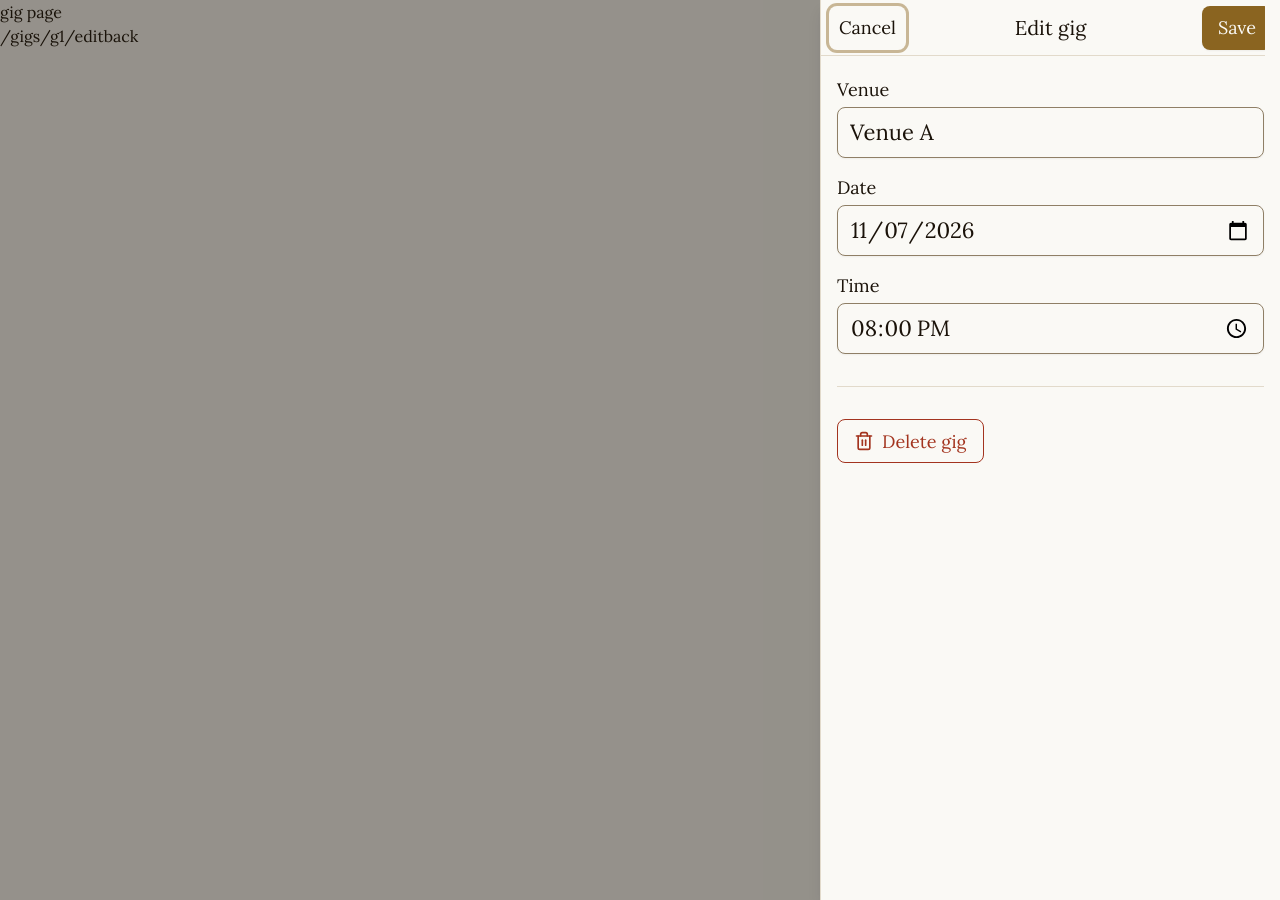
Scenario: GigEdit delete › disables "Yes, delete" while the request runs
Click the button "Delete gig" at (910, 441), box [837,419,984,463]
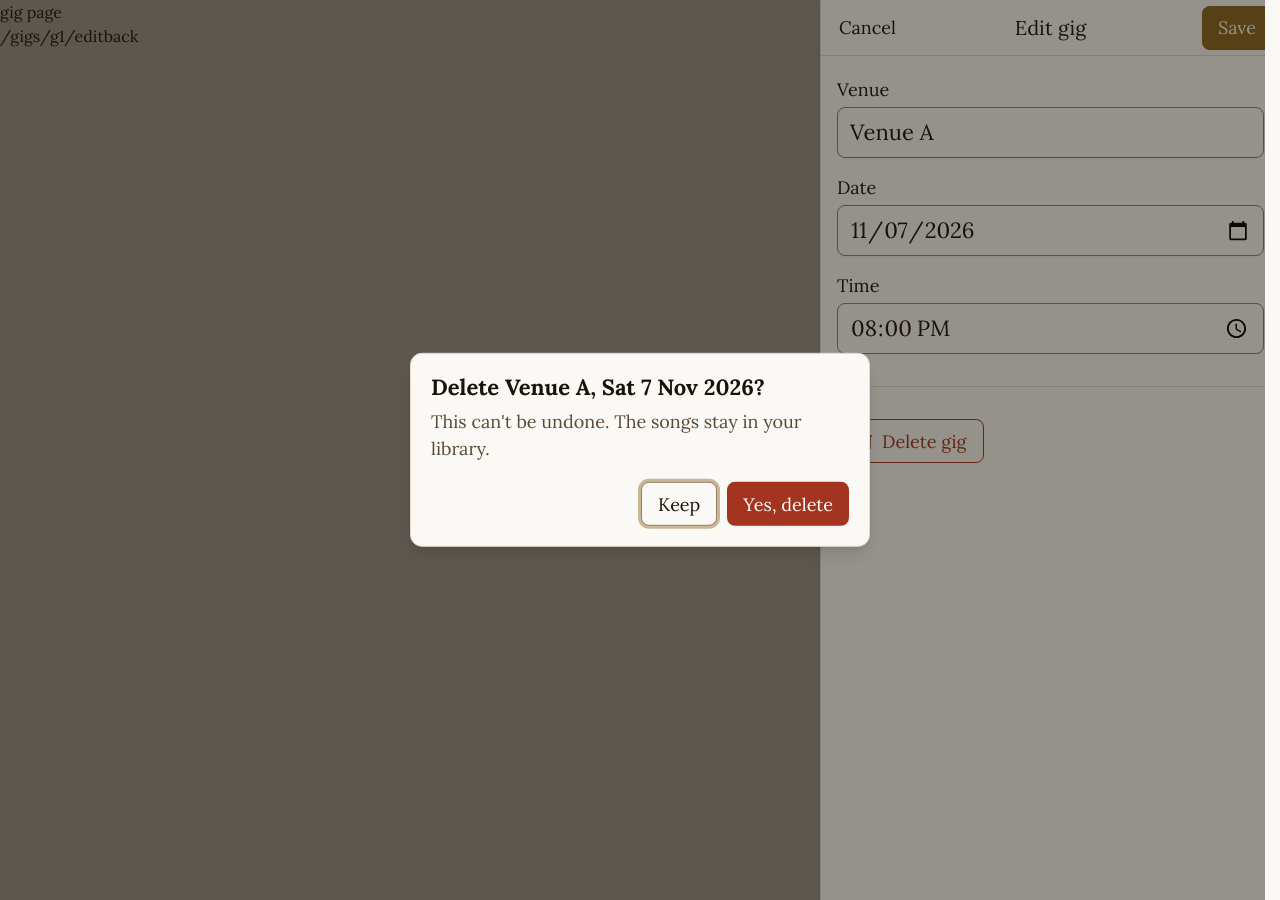
Click the button "Yes, delete" at (788, 504), box [727,482,849,526]
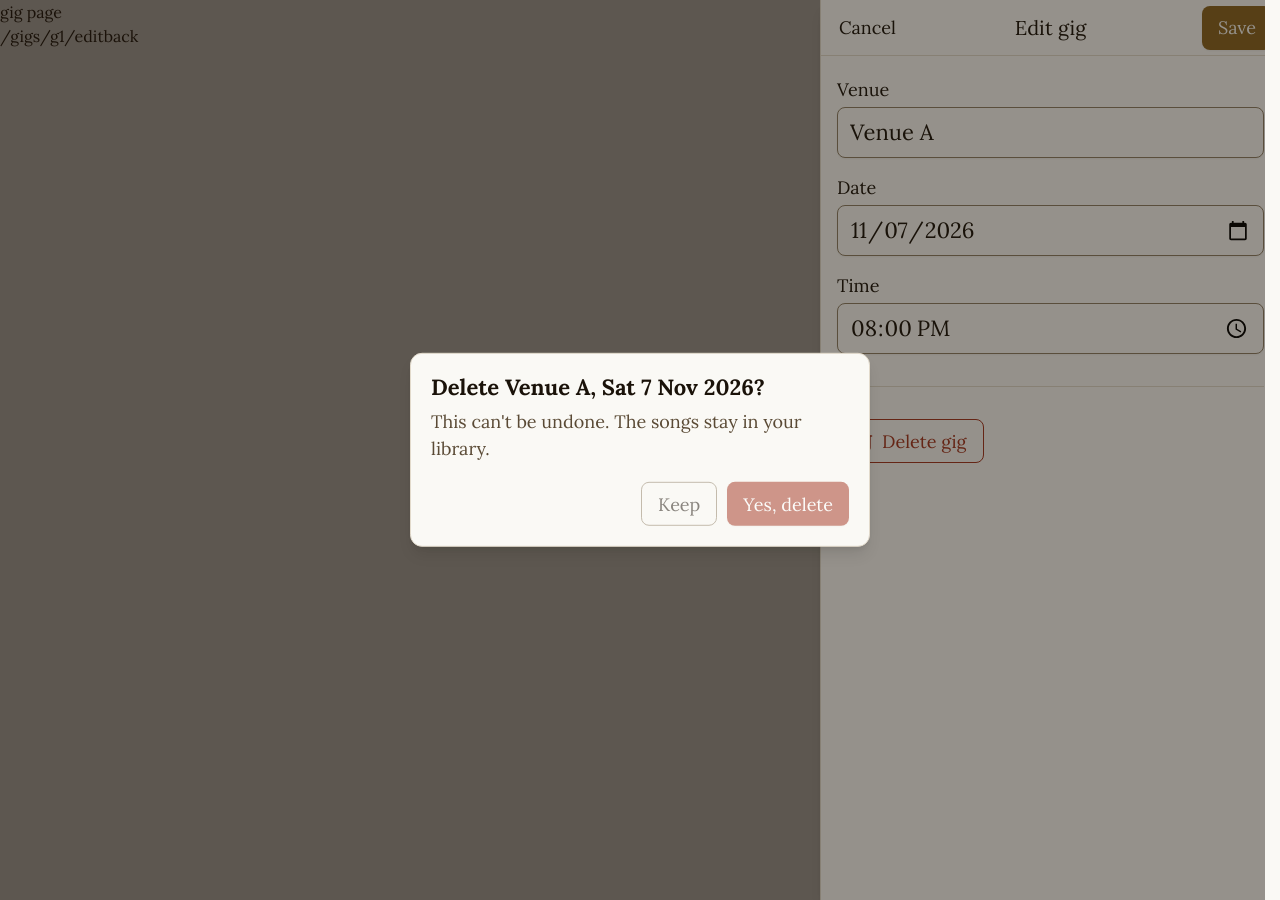
Expected: the button "Yes, delete" is disabled, [727,482,849,526]
